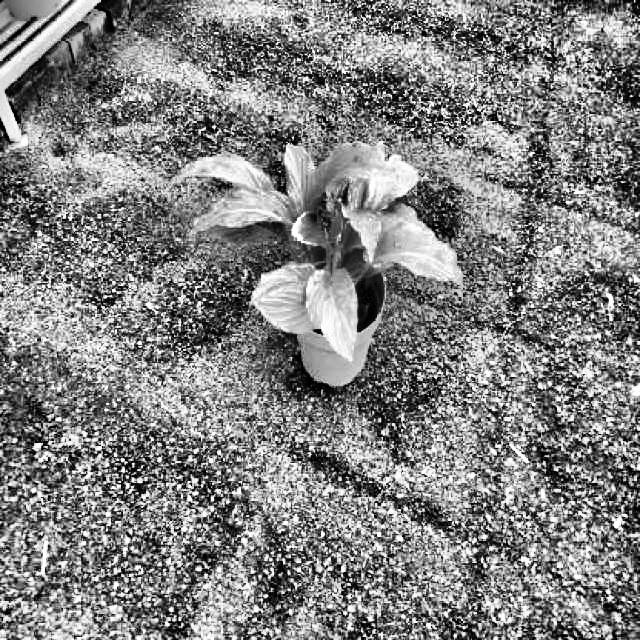plants: (161, 139, 470, 361)
